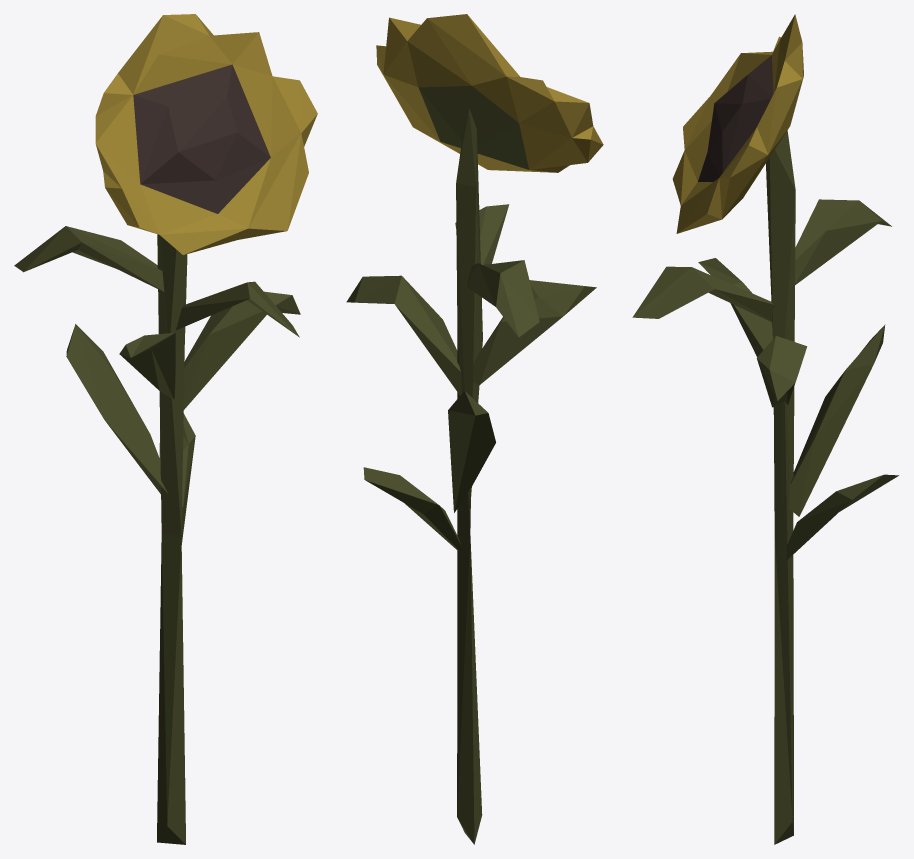
File: SM_Env_Sunflower_02.glb
3 views of the same model, side by side, from view 1: azimuth 30°, elevation 25°; view 2: azimuth 150°, elevation 25°; view 3: azimuth 270°, elevation 25° (orthographic).
Parts seen in each view (by area): view 1: SM_Env_Sunflower_02; view 2: SM_Env_Sunflower_02; view 3: SM_Env_Sunflower_02.
Part boxes in pixels (x1=…): SM_Env_Sunflower_02: x1=14, y1=14, x2=317, y2=844; SM_Env_Sunflower_02: x1=346, y1=14, x2=603, y2=844; SM_Env_Sunflower_02: x1=632, y1=14, x2=898, y2=844.
Bounding box in the file's own units: 0.00617 × 0.0207 × 0.00609.
